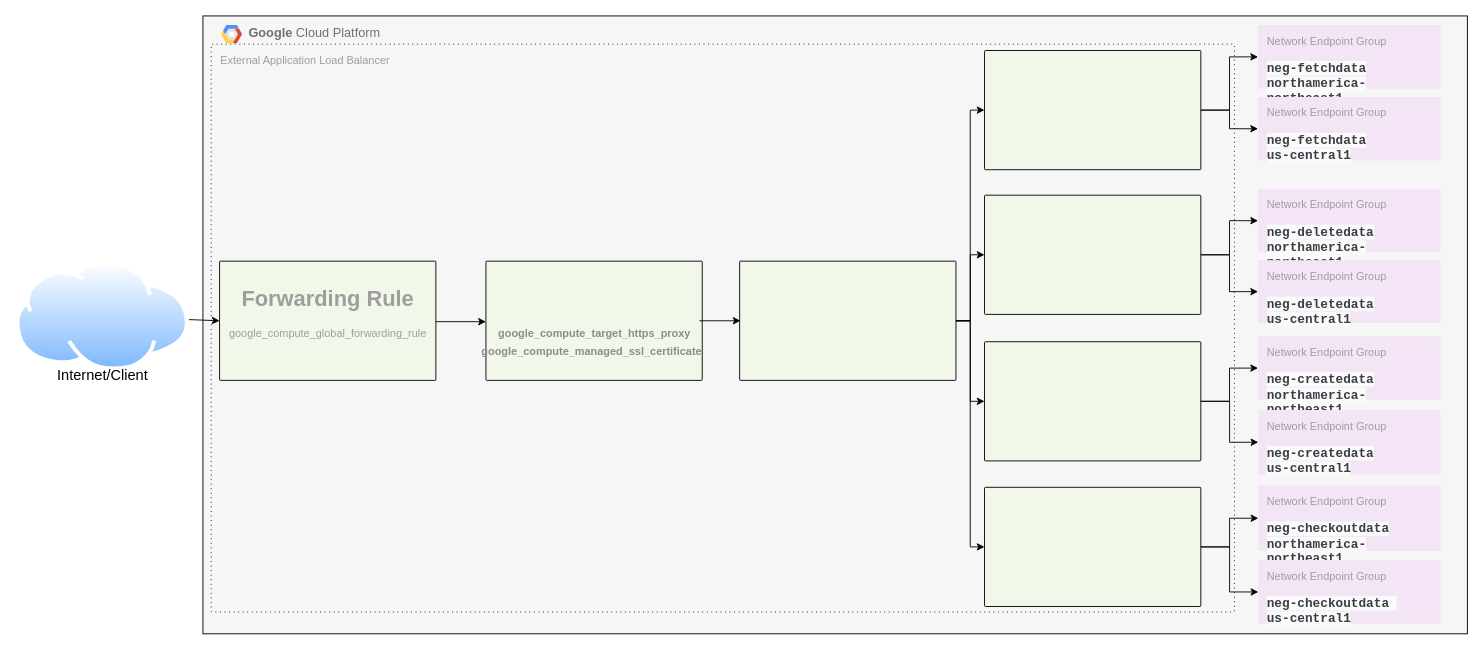
The diagram is 1483 pixels wide and 650 high, and some of its shapes have lost their labels. The shapes that lost their labels are listed below. From the top down, each one's box as (x1, y1, x2, y2) in pixels, then its label:
(984, 50, 1201, 170): Backend Service: name: fetchData
(984, 194, 1201, 314): Backend Service: name: deleteData
(485, 260, 702, 380): Target HTTP(S) proxy with SSL Certificate
(739, 260, 956, 380): URL Map google_compute_url_map
(984, 341, 1201, 461): Backend Service: name: createData
(984, 486, 1201, 607): Backend Service: name: checkoutData
